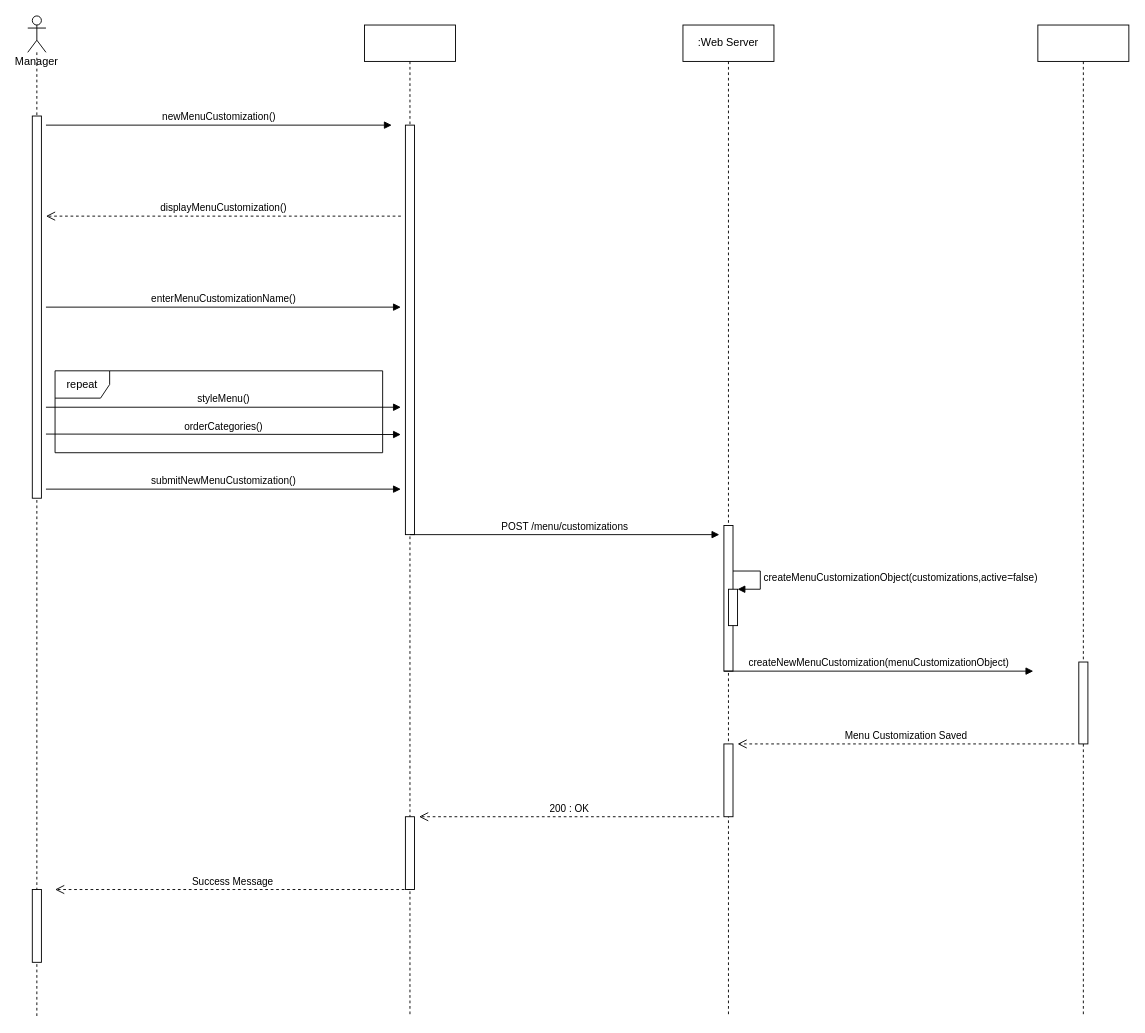
Some shapes in this 1145 by 1033 pixel diagram are drawn without their labels. Here are the shapes that lost their labels. From the top down, the box of each, then its label:
(364, 24, 455, 1017): :Manager UI
(1037, 24, 1129, 1017): :Database
